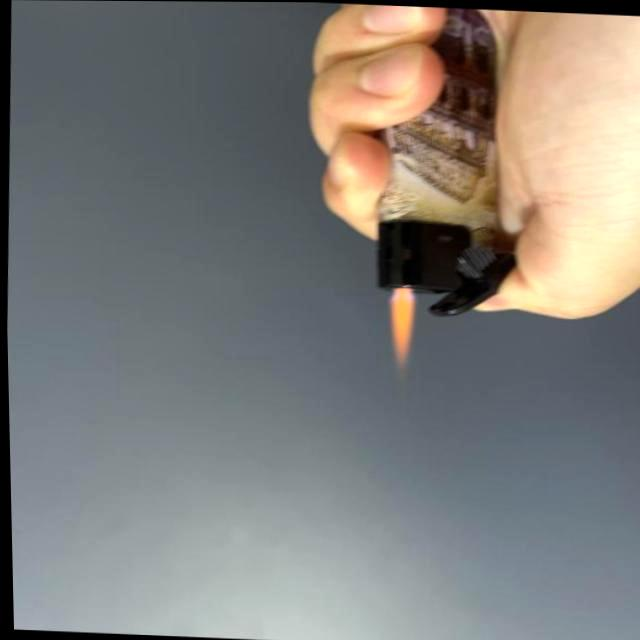fire: (382, 288, 418, 376)
